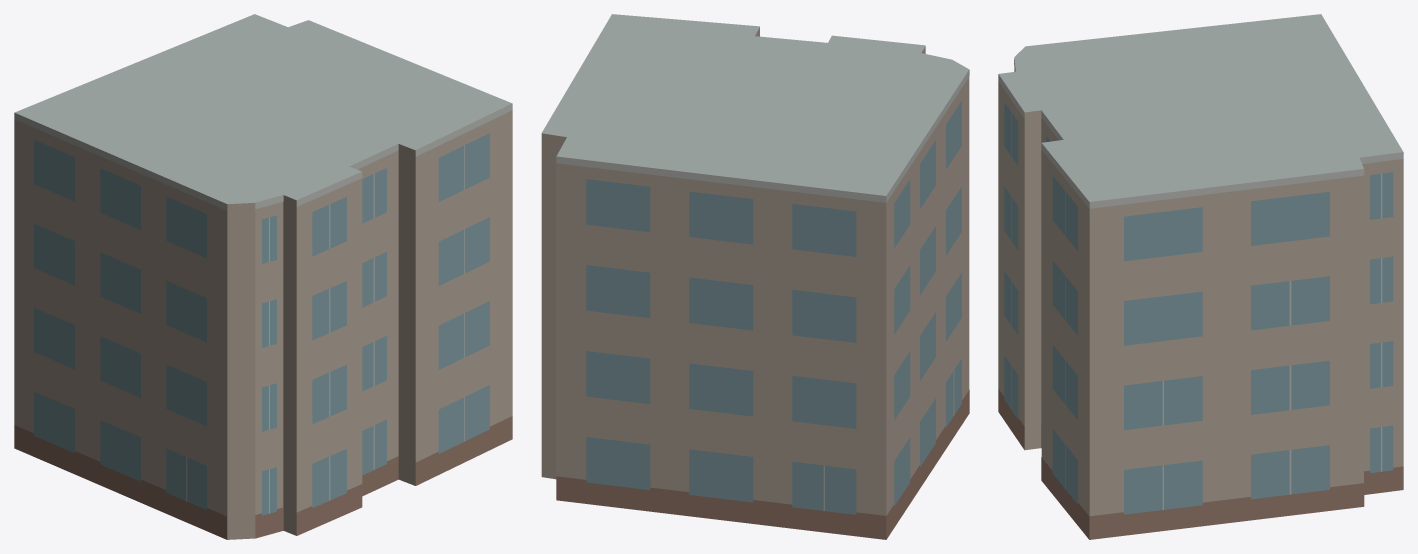
Rendered from survey-upis-32749292.glb.
3 views of the same model, side by side, from view 1: azimuth 30°, elevation 25°; view 2: azimuth 150°, elevation 25°; view 3: azimuth 270°, elevation 25° (orthographic). The views are drawn at different scales.
Parts seen in each view (by area): view 1: survey-upis-32749292.tmp; view 2: survey-upis-32749292.tmp; view 3: survey-upis-32749292.tmp.
Part boxes in pixels (<box>): survey-upis-32749292.tmp: <box>14,14,512,539</box>; survey-upis-32749292.tmp: <box>541,14,969,539</box>; survey-upis-32749292.tmp: <box>998,14,1403,539</box>.
Size of the model in its own units: 14.7 by 12.3 by 13.38.
